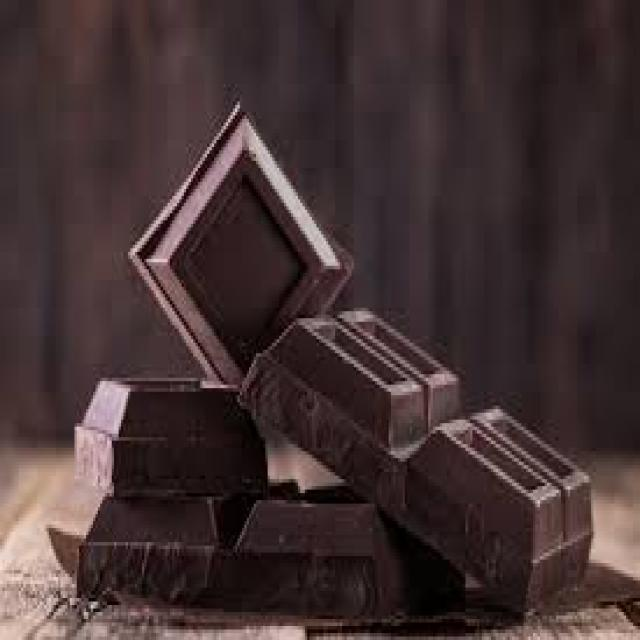Chocolate: (75, 163, 579, 610)
